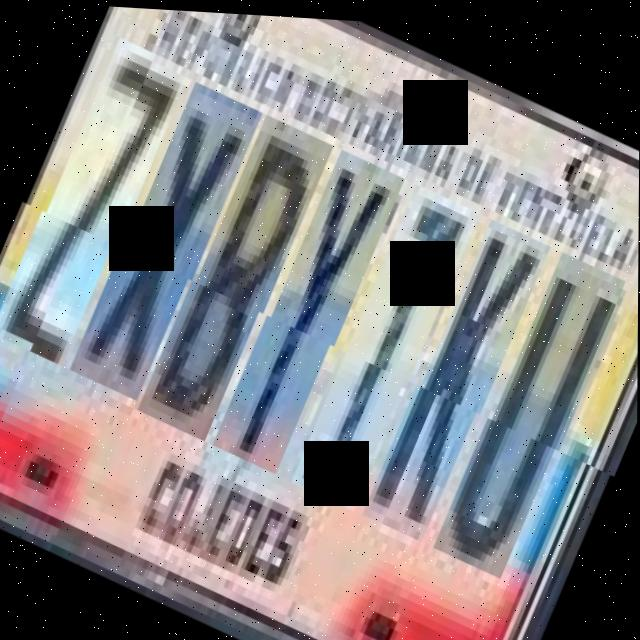B: (141, 105, 334, 447)
I: (291, 173, 480, 512)
K: (366, 206, 551, 545)
U: (437, 238, 630, 580)
X: (73, 73, 263, 406)
Y: (215, 138, 405, 479)
Z: (0, 38, 187, 372)
